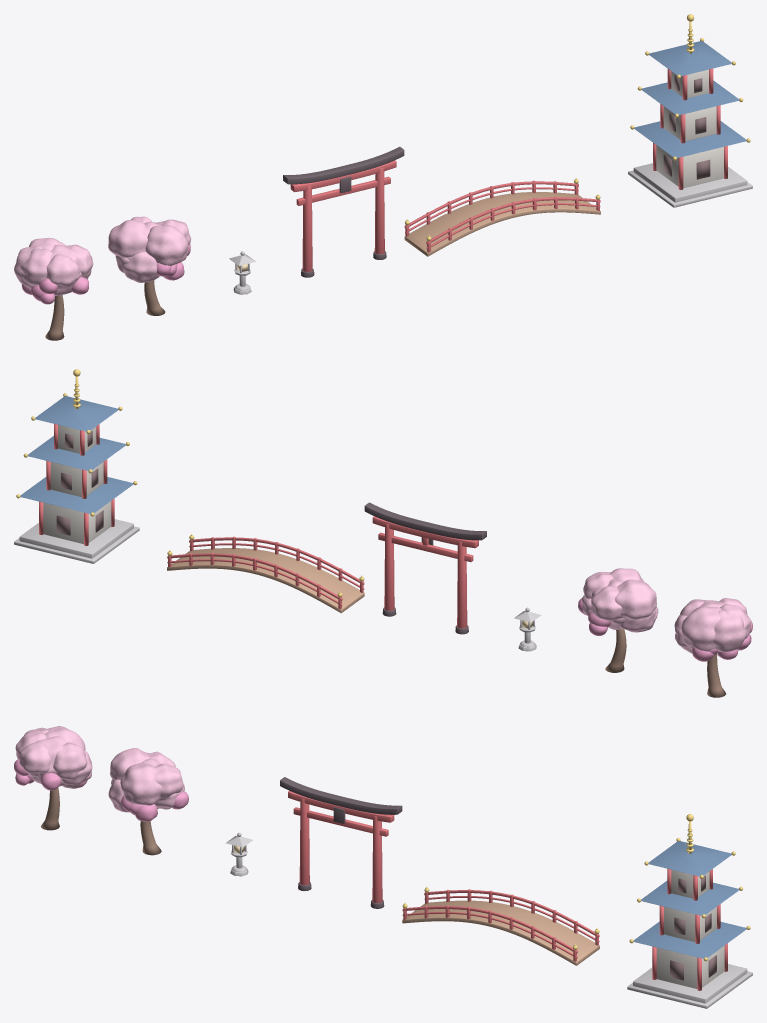
File: Sakura_Props.fbx
3 views of the same model, one above another, from view 1: azimuth 30°, elevation 25°; view 2: azimuth 150°, elevation 25°; view 3: azimuth 330°, elevation 25° (orthographic).
Parts seen in each view (by area): view 1: Pagoda_Roof, CherryTreeB_Blossom, Bridge_Wood, Pagoda_Walls, CherryTreeA_Blossom, Torii_Red, Bridge_Red, Pagoda_Stone, Torii_Black, Pagoda_Red, Pagoda_Dark, CherryTreeA_BlossomShade (+2 smaller); view 2: Pagoda_Roof, Bridge_Wood, CherryTreeB_Blossom, CherryTreeA_Blossom, Pagoda_Walls, Torii_Red, Bridge_Red, Pagoda_Stone, Torii_Black, Pagoda_Red, Pagoda_Dark, Lantern_Stone (+2 smaller); view 3: Pagoda_Roof, Bridge_Wood, CherryTreeB_Blossom, CherryTreeA_Blossom, Pagoda_Walls, Torii_Red, Bridge_Red, Pagoda_Stone, Torii_Black, Pagoda_Red, Pagoda_Dark, CherryTreeB_BlossomShade (+3 smaller).
Boxes of the visible parts, x1,y1,x2,y2 form: Pagoda_Roof: (634,41,746,157); CherryTreeB_Blossom: (108,216,191,282); Bridge_Wood: (404,192,600,256); Pagoda_Walls: (656,69,723,187); CherryTreeA_Blossom: (14,237,93,295); Torii_Red: (290,160,396,271); Bridge_Red: (404,180,600,252); Pagoda_Stone: (628,163,752,207); Torii_Black: (283,146,404,277); Pagoda_Red: (653,68,727,189); Pagoda_Dark: (663,75,710,179); CherryTreeA_BlossomShade: (21,276,88,304); Pagoda_Roof: (20,396,133,513); Bridge_Wood: (167,548,364,613); CherryTreeB_Blossom: (582,568,658,632); CherryTreeA_Blossom: (674,598,751,653); Pagoda_Walls: (43,425,111,544); Torii_Red: (372,516,478,628); Bridge_Red: (167,536,364,609); Pagoda_Stone: (14,519,139,563); Torii_Black: (364,502,486,634); Pagoda_Red: (39,424,114,545); Pagoda_Dark: (56,430,103,535); Lantern_Stone: (514,607,540,651); Pagoda_Roof: (633,841,746,958); Bridge_Wood: (402,900,599,965); CherryTreeB_Blossom: (108,748,184,812); CherryTreeA_Blossom: (15,726,92,788); Pagoda_Walls: (656,869,724,988); Torii_Red: (288,791,394,902); Bridge_Red: (402,889,599,961); Pagoda_Stone: (627,964,752,1008); Torii_Black: (280,777,402,908); Pagoda_Red: (652,868,727,990); Pagoda_Dark: (670,875,716,980); CherryTreeB_BlossomShade: (121,791,188,821).
Bounding box in the file's own units: 98.15 × 22.1 × 11.
